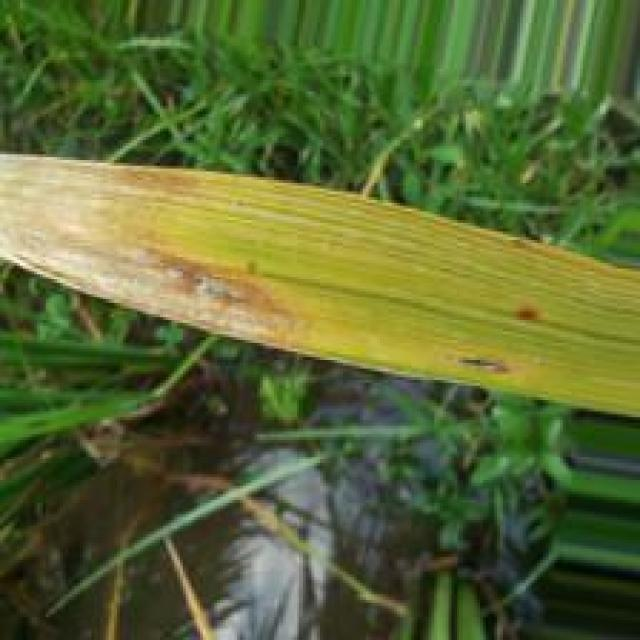Leaf_Scald: (0, 153, 300, 350), (452, 351, 512, 379), (516, 302, 541, 327)
